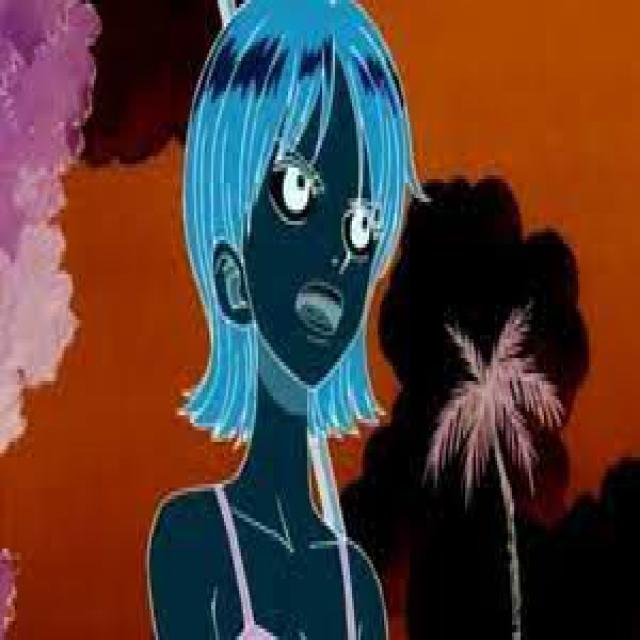Nami: (149, 0, 412, 640)
